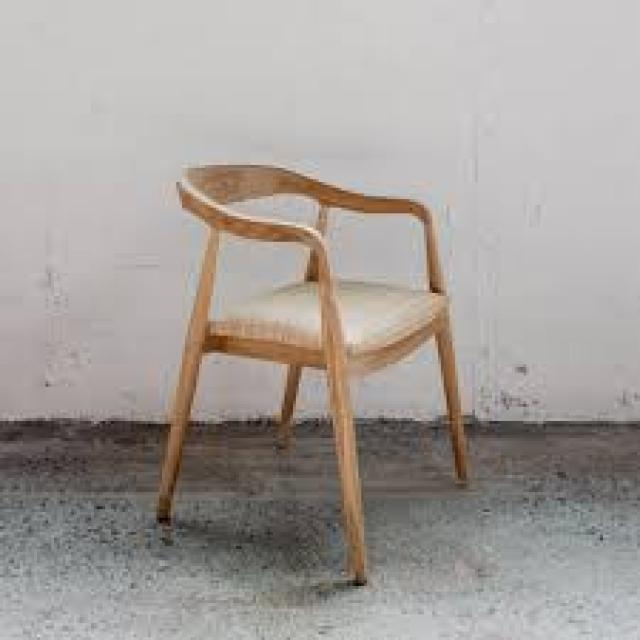chair: (86, 74, 530, 610)
